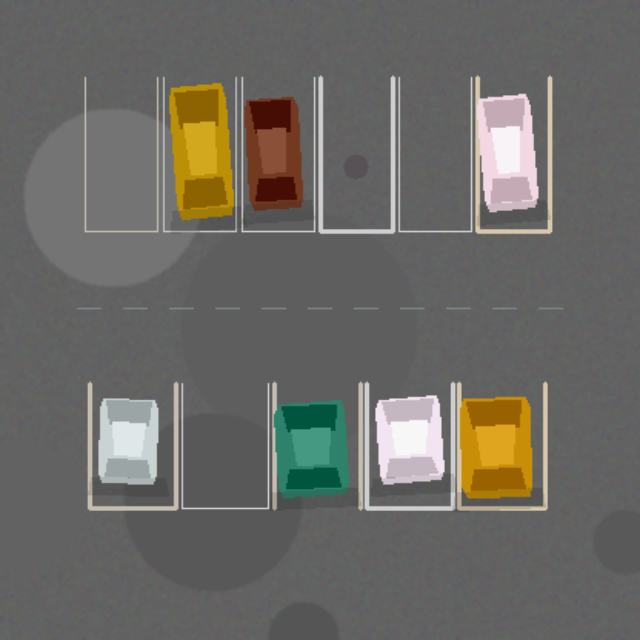space-empty: (398, 77, 471, 231), (85, 77, 157, 231), (320, 77, 392, 231), (182, 383, 268, 508)
space-occupied: (163, 77, 235, 231), (242, 77, 314, 231), (477, 77, 549, 231), (458, 383, 545, 508), (89, 383, 175, 508), (274, 383, 360, 508), (366, 383, 452, 508)
